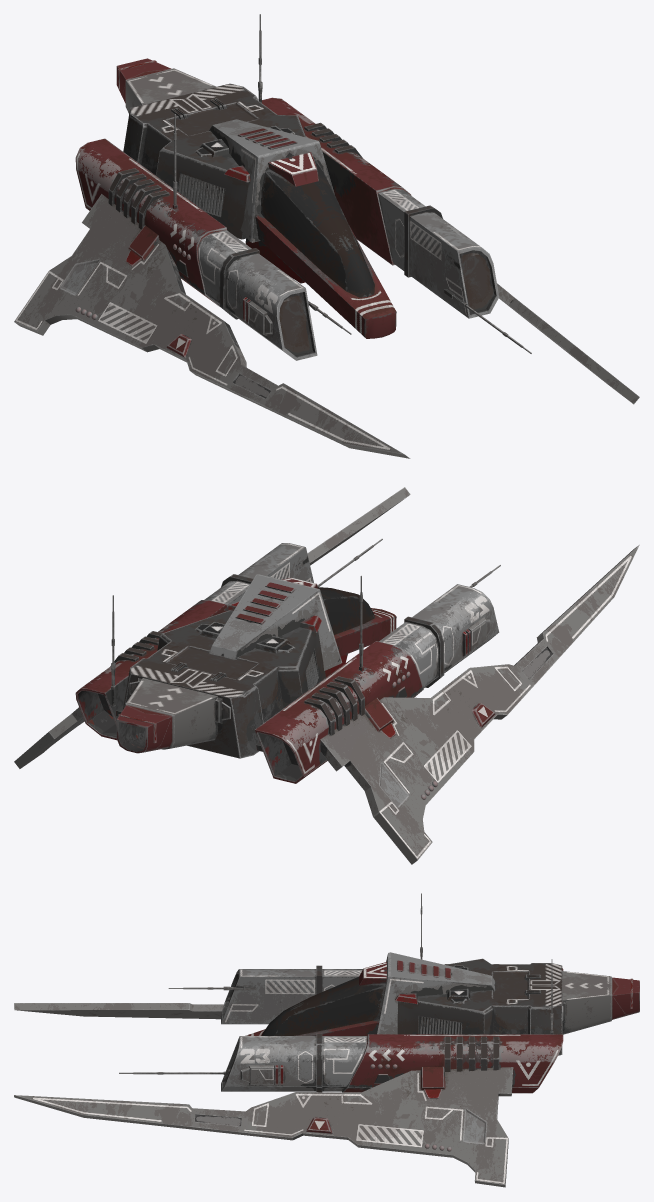
Rendered from striker-red.glb.
3 views of the same model, one above another, from view 1: azimuth 30°, elevation 25°; view 2: azimuth 150°, elevation 25°; view 3: azimuth 270°, elevation 25° (orthographic). The views are drawn at different scales.
Parts seen in each view (by area): view 1: Striker; view 2: Striker; view 3: Striker.
Boxes of the visible parts, x1,y1,x2,y2 form: Striker: (14,14,639,458); Striker: (14,487,639,864); Striker: (14,893,639,1187).
Bounding box in the file's own units: 5.03 × 2.68 × 8.43.
Materials: 1 (1 with a texture image).
